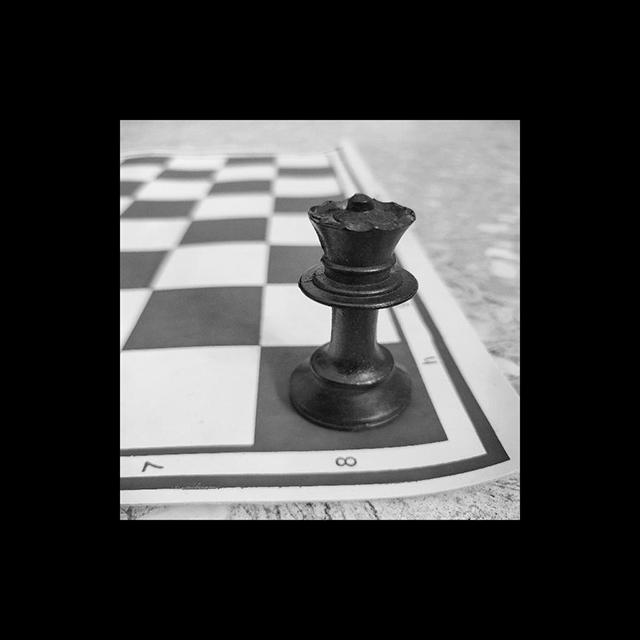black-queen: (290, 193, 418, 432)
